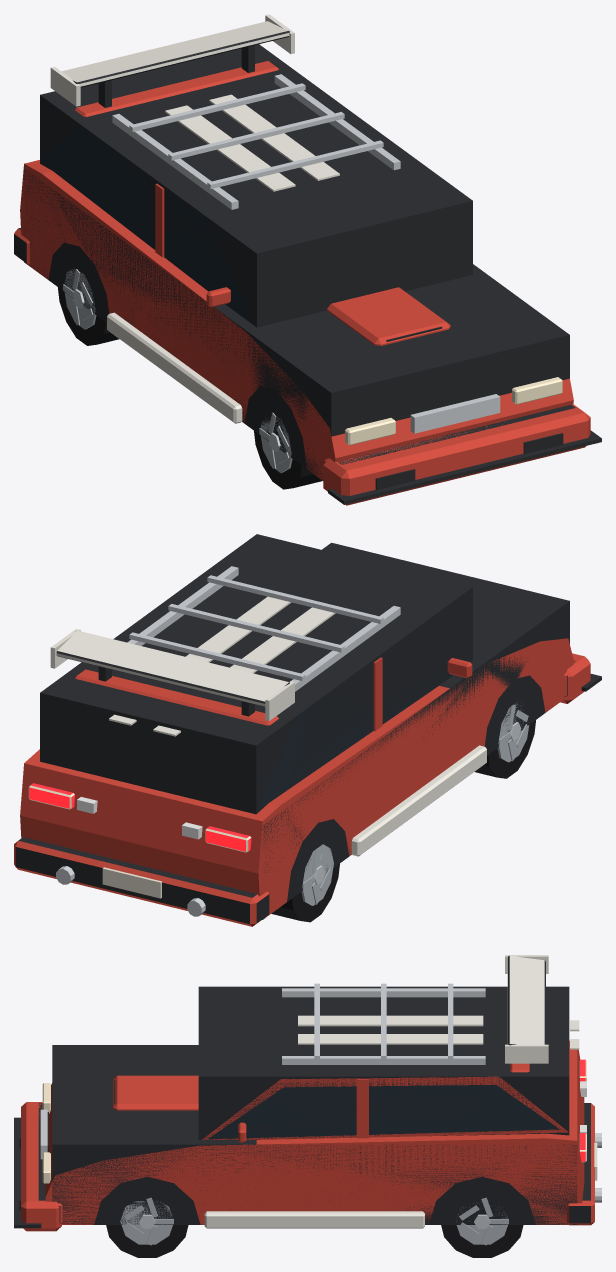
File: VEH_Compact.fbx
3 renders of one model, top to bottom at view 1: azimuth 30°, elevation 25°; view 2: azimuth 150°, elevation 25°; view 3: azimuth 270°, elevation 25°, orthographic. The views are drawn at different scales.
Visible parts, largest first — view 1: VEH_Compact__COL_Cabin, VEH_Compact, VEH_Compact__COL_Body, VEH_Compact__BODY, VEH_Compact__WHEEL_FR, VEH_Compact__WHEEL_RR, VEH_Compact__LIGHTS; view 2: VEH_Compact__COL_Cabin, VEH_Compact__BODY, VEH_Compact, VEH_Compact__COL_Body, VEH_Compact__WHEEL_RR, VEH_Compact__LIGHTS, VEH_Compact__WHEEL_FR; view 3: VEH_Compact__BODY, VEH_Compact__COL_Cabin, VEH_Compact__COL_Body, VEH_Compact, VEH_Compact__WHEEL_FL, VEH_Compact__WHEEL_RL, VEH_Compact__LIGHTS.
Part boxes in pixels (box(x1,y1,x2,y2)): VEH_Compact__COL_Cabin: box(40, 44, 472, 327); VEH_Compact: box(50, 14, 601, 505); VEH_Compact__COL_Body: box(24, 168, 569, 480); VEH_Compact__BODY: box(14, 125, 575, 480); VEH_Compact__WHEEL_FR: box(254, 412, 322, 489); VEH_Compact__WHEEL_RR: box(58, 269, 119, 345); VEH_Compact__LIGHTS: box(345, 377, 562, 445); VEH_Compact__COL_Cabin: box(40, 534, 472, 814); VEH_Compact__BODY: box(14, 638, 575, 926); VEH_Compact: box(50, 566, 601, 916); VEH_Compact__COL_Body: box(262, 542, 569, 919); VEH_Compact__WHEEL_RR: box(271, 844, 339, 922); VEH_Compact__LIGHTS: box(28, 783, 251, 852); VEH_Compact__WHEEL_FR: box(474, 702, 535, 778); VEH_Compact__BODY: box(38, 1040, 597, 1225); VEH_Compact__COL_Cabin: box(198, 986, 569, 1139); VEH_Compact__COL_Body: box(52, 1045, 577, 1224); VEH_Compact: box(14, 955, 601, 1231); VEH_Compact__WHEEL_FL: box(106, 1197, 188, 1257); VEH_Compact__WHEEL_RL: box(441, 1197, 523, 1257); VEH_Compact__LIGHTS: box(42, 1059, 586, 1183).
Size of the model in its own units: 1.9 by 1.69 by 4.3.
